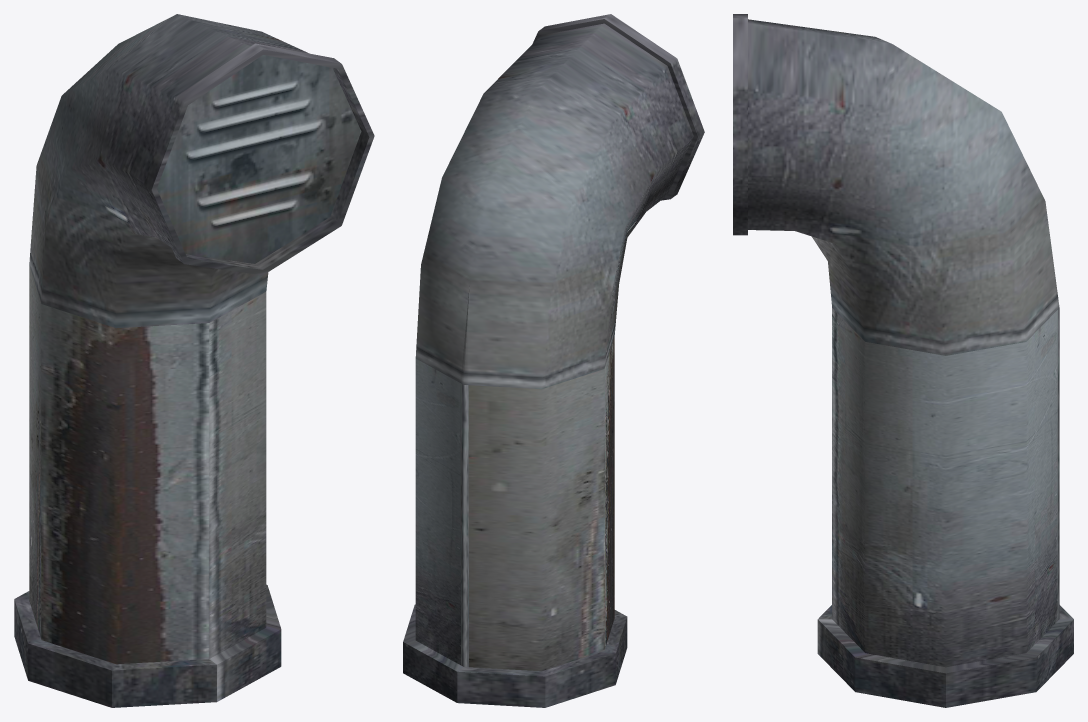
File: Fan3.fbx
3 renders of one model, left to right at view 1: azimuth 30°, elevation 25°; view 2: azimuth 150°, elevation 25°; view 3: azimuth 270°, elevation 25°, orthographic. The views are drawn at different scales.
Visible parts, largest first — view 1: Fan3; view 2: Fan3; view 3: Fan3.
Part boxes in pixels (bbox=[...]): Fan3: bbox=[14, 14, 374, 707]; Fan3: bbox=[403, 14, 704, 707]; Fan3: bbox=[733, 14, 1073, 707].
Bounding box in the file's own units: 76.11 × 208 × 101.
